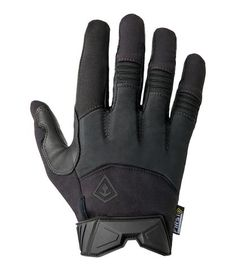gloves: (29, 12, 208, 256)
